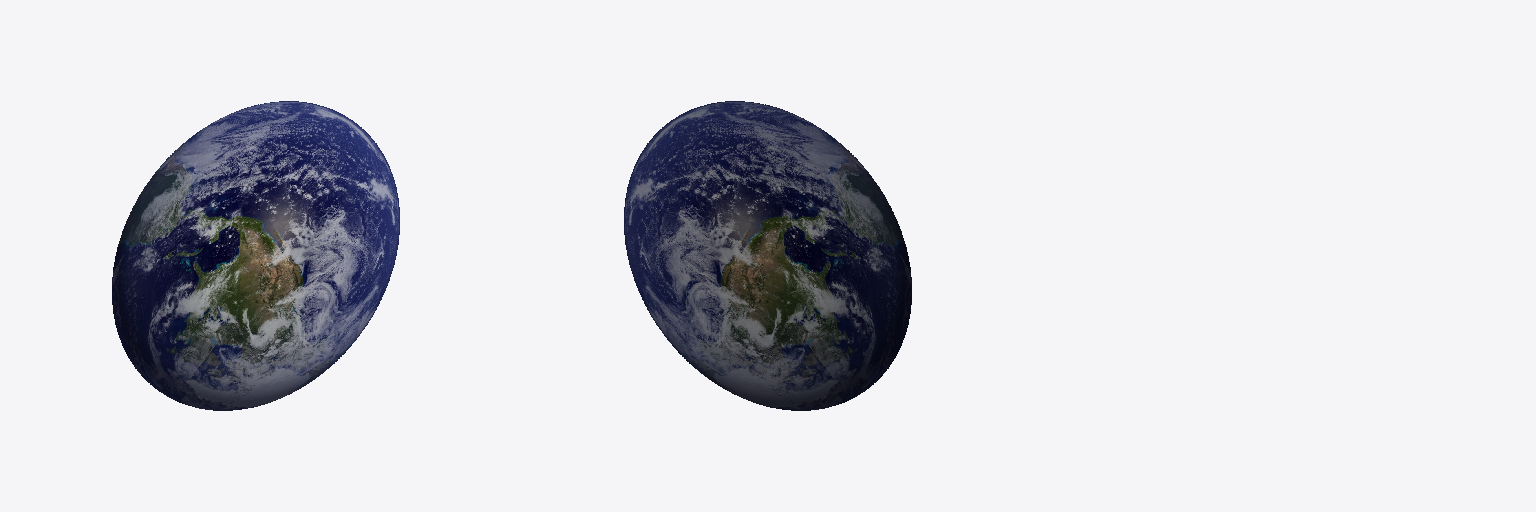
3 views of the same model, side by side, from view 1: azimuth 30°, elevation 25°; view 2: azimuth 150°, elevation 25°; view 3: azimuth 270°, elevation 25° (orthographic).
Visible parts, largest first — view 1: Plane; view 2: Plane; view 3: none.
Boxes of the visible parts, x1=… form: Plane: x1=112, y1=101, x2=399, y2=410; Plane: x1=624, y1=101, x2=911, y2=410.
Bounding box in the file's own units: 4 × 4 × 0.
1 materials, 1 textured.